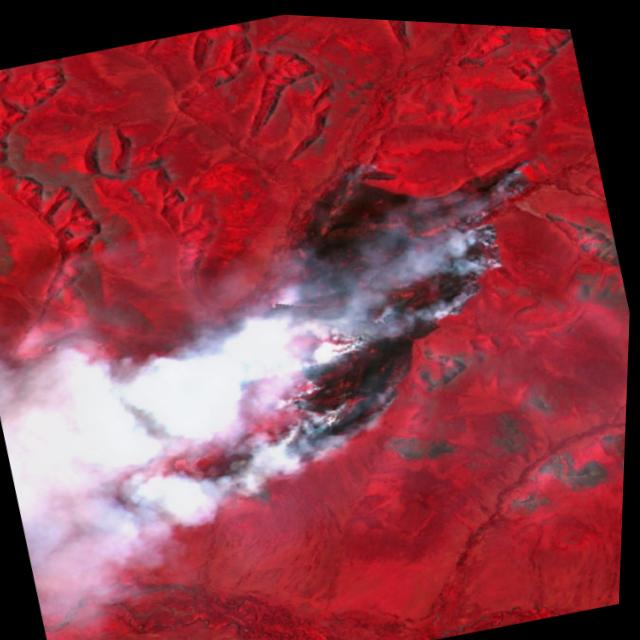fire: (82, 101, 602, 515)
